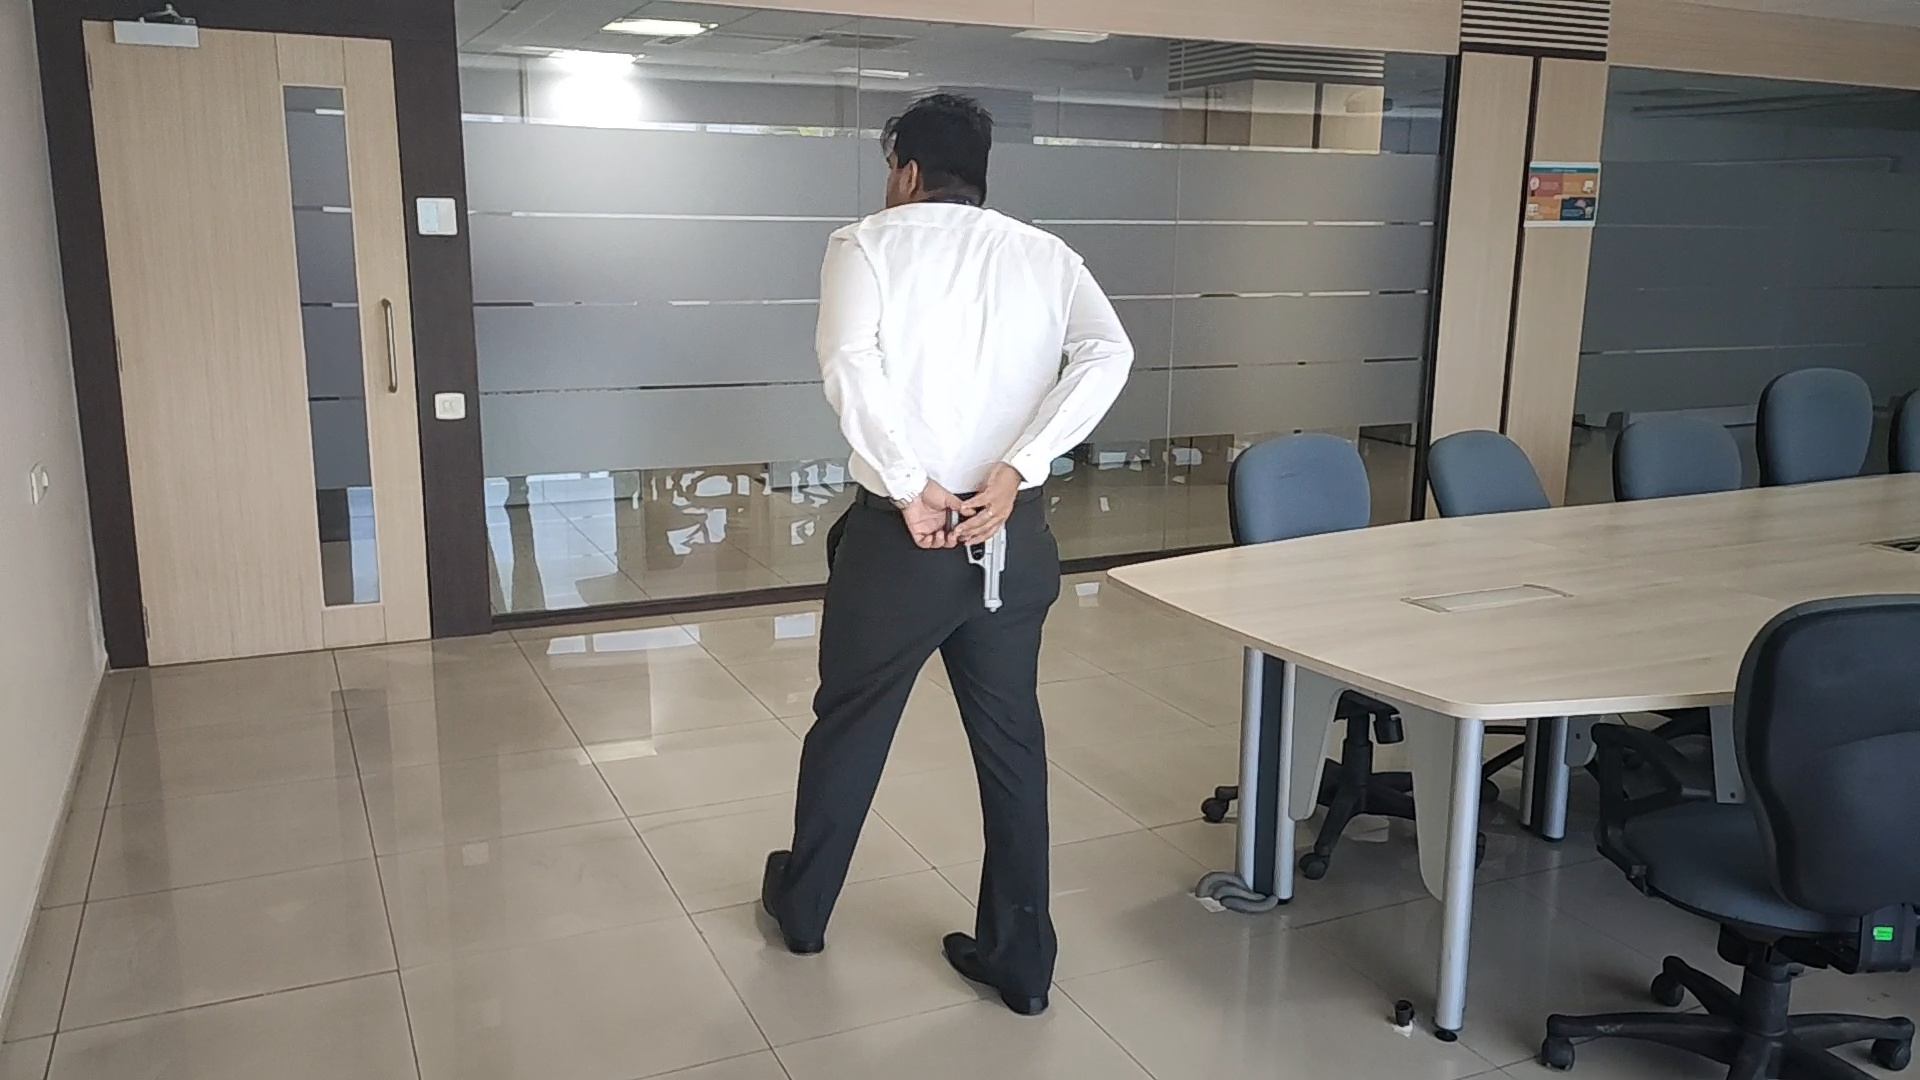gun: (967, 537, 1007, 616)
